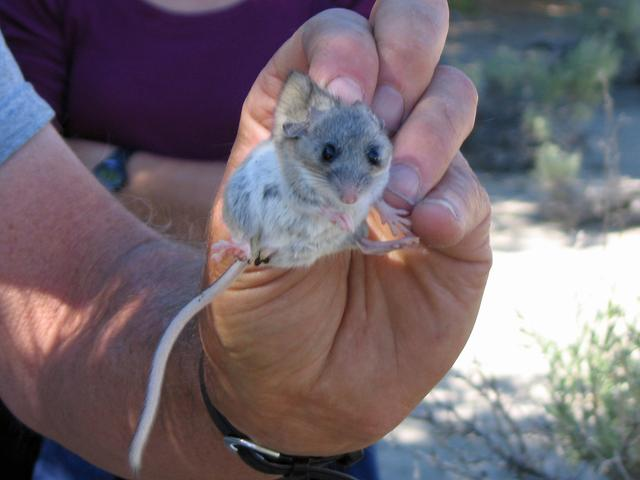mouse: (108, 93, 447, 475)
